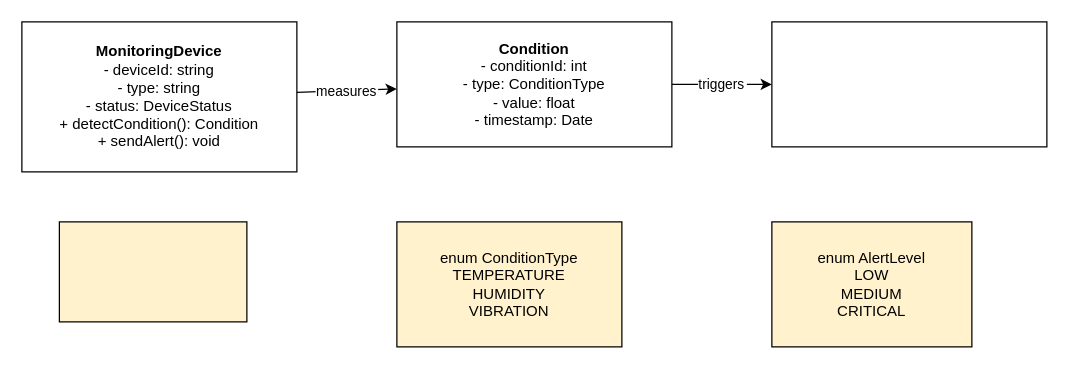
Some shapes in this 1069 by 369 pixel diagram are drawn without their labels. Here are the shapes that lost their labels. From the top down, the box of each, then its label:
(771, 21, 1047, 147): Alert - alertId: int - severity: AlertLevel - message: string + notify(): void
(58, 221, 247, 322): enum DeviceStatus ACTIVE INACTIVE
